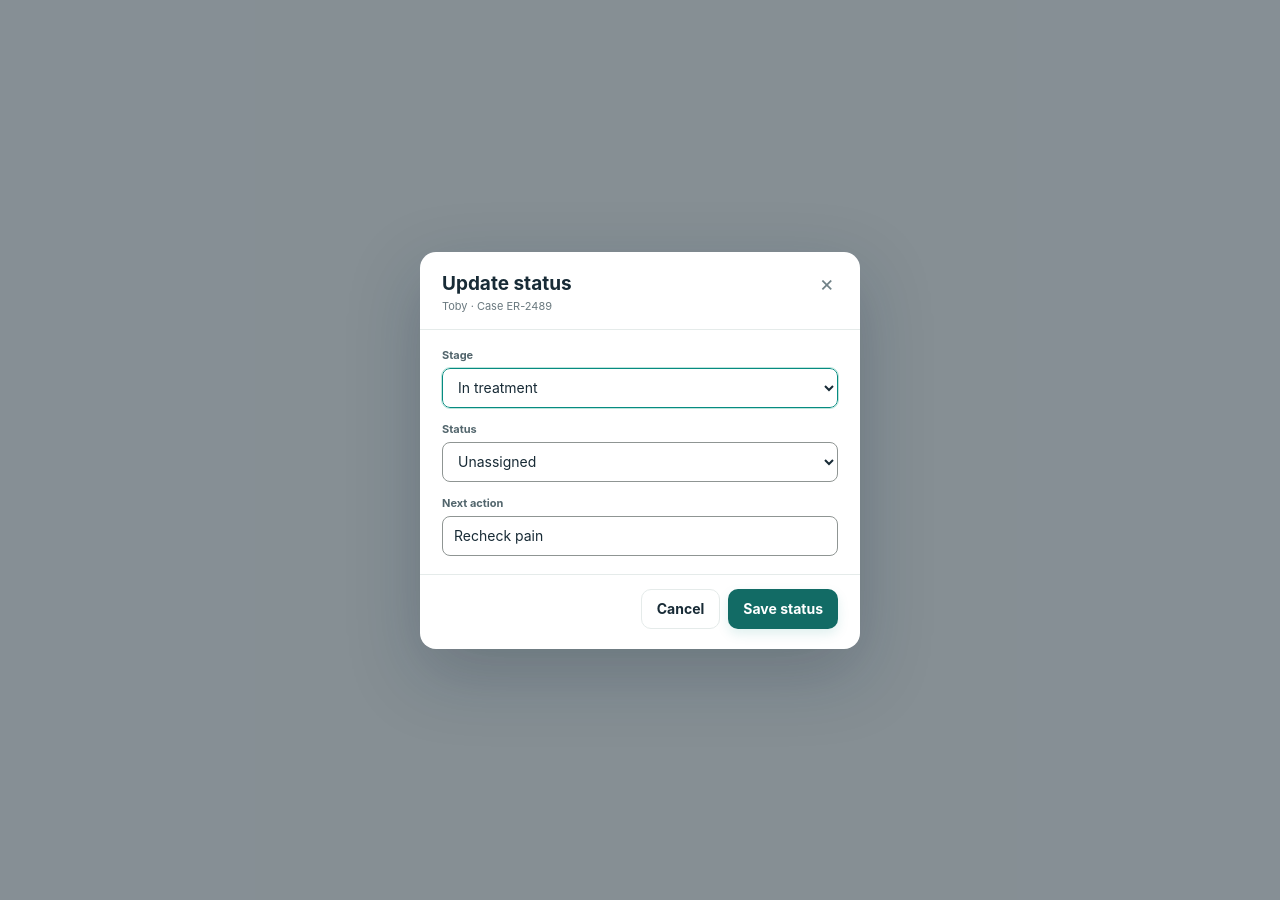
Scenario: UpdateStatusDialog › shows the server's refusal reason and keeps what was typed
Select "Triage" in the dropdown labelled "Stage" at (640, 388), box [442,368,838,408]
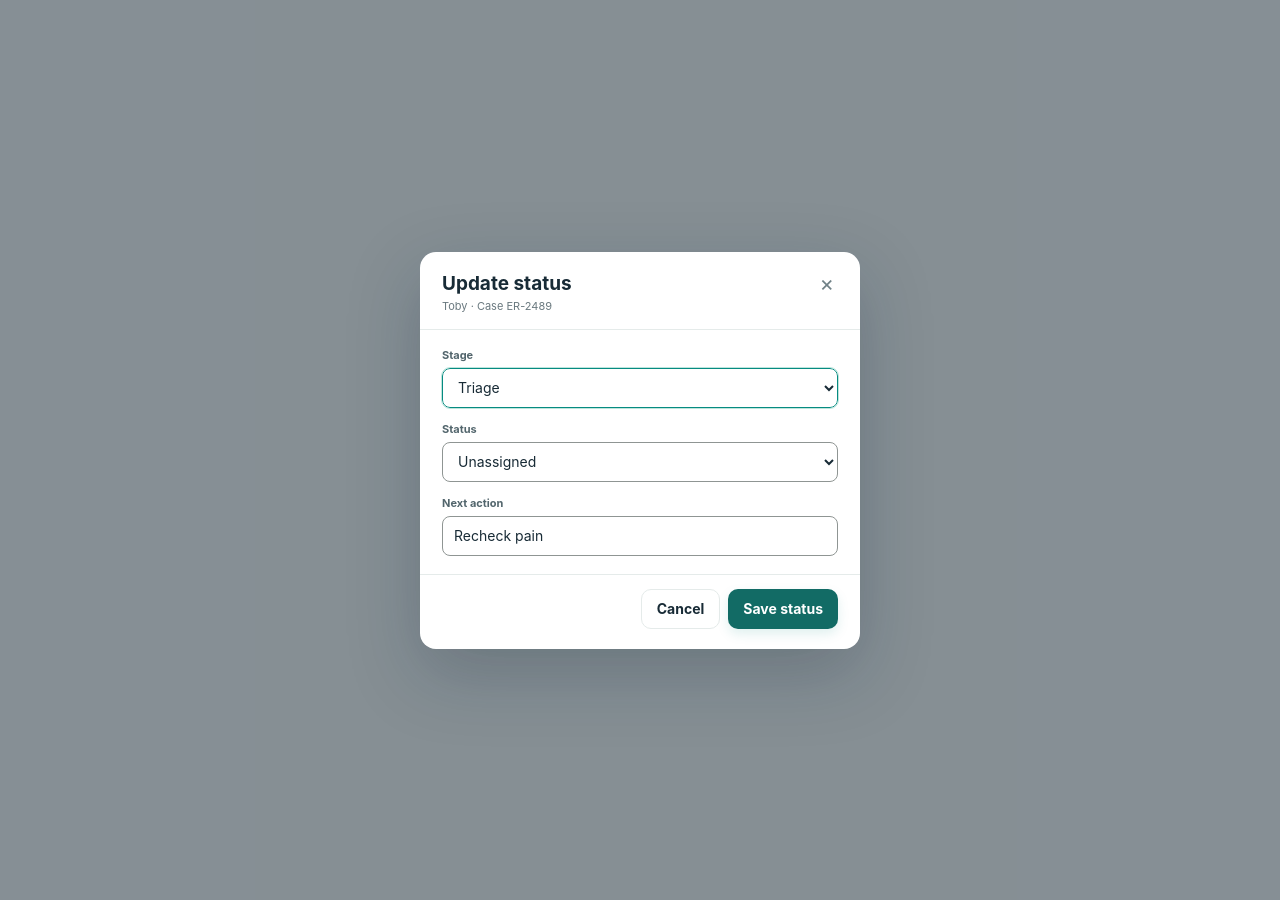
Replace the text in the field labelled "Next action" with "Keep this note" at (640, 536), box [442,516,838,556]
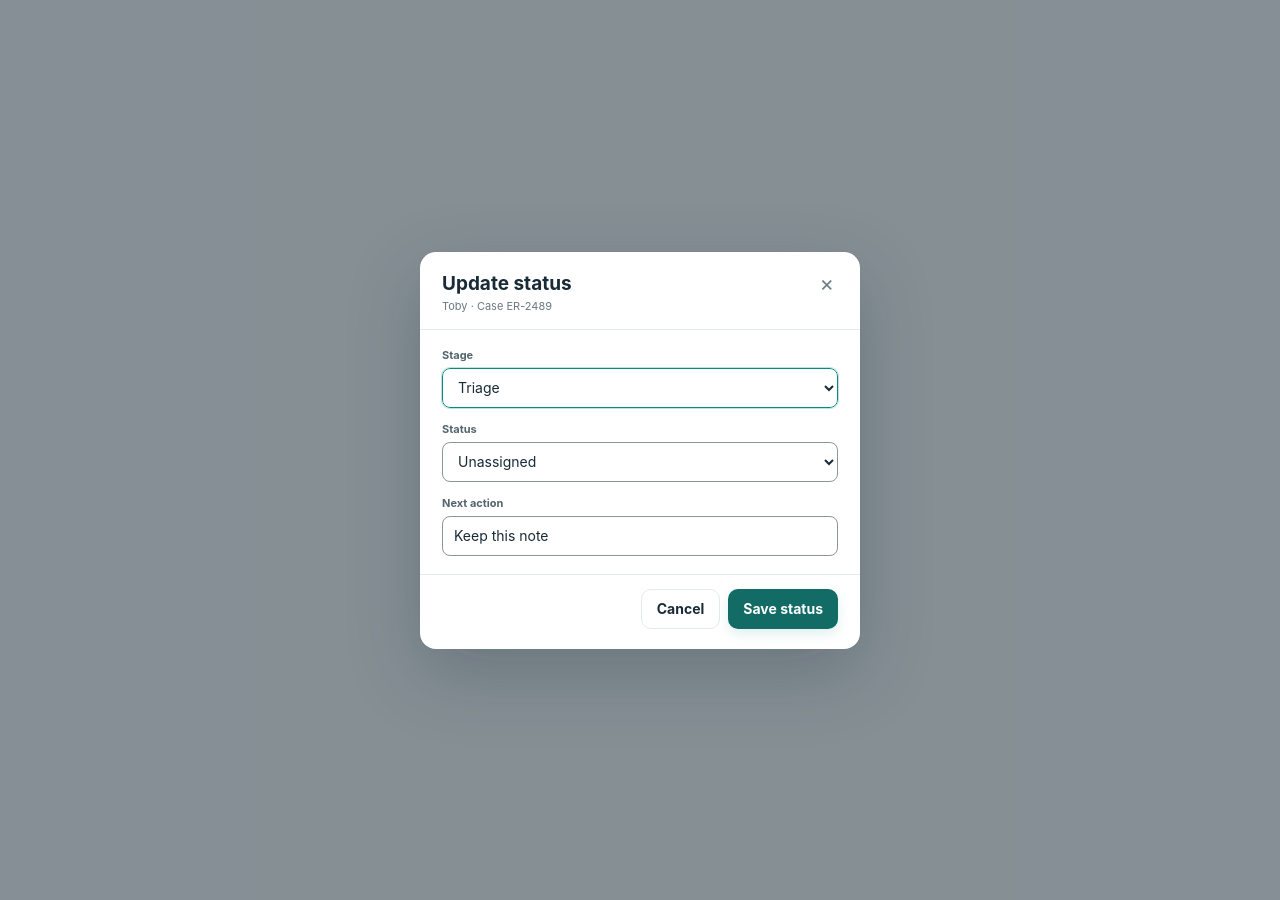
Click the button "Save status" at (783, 608), box [728,588,838,628]
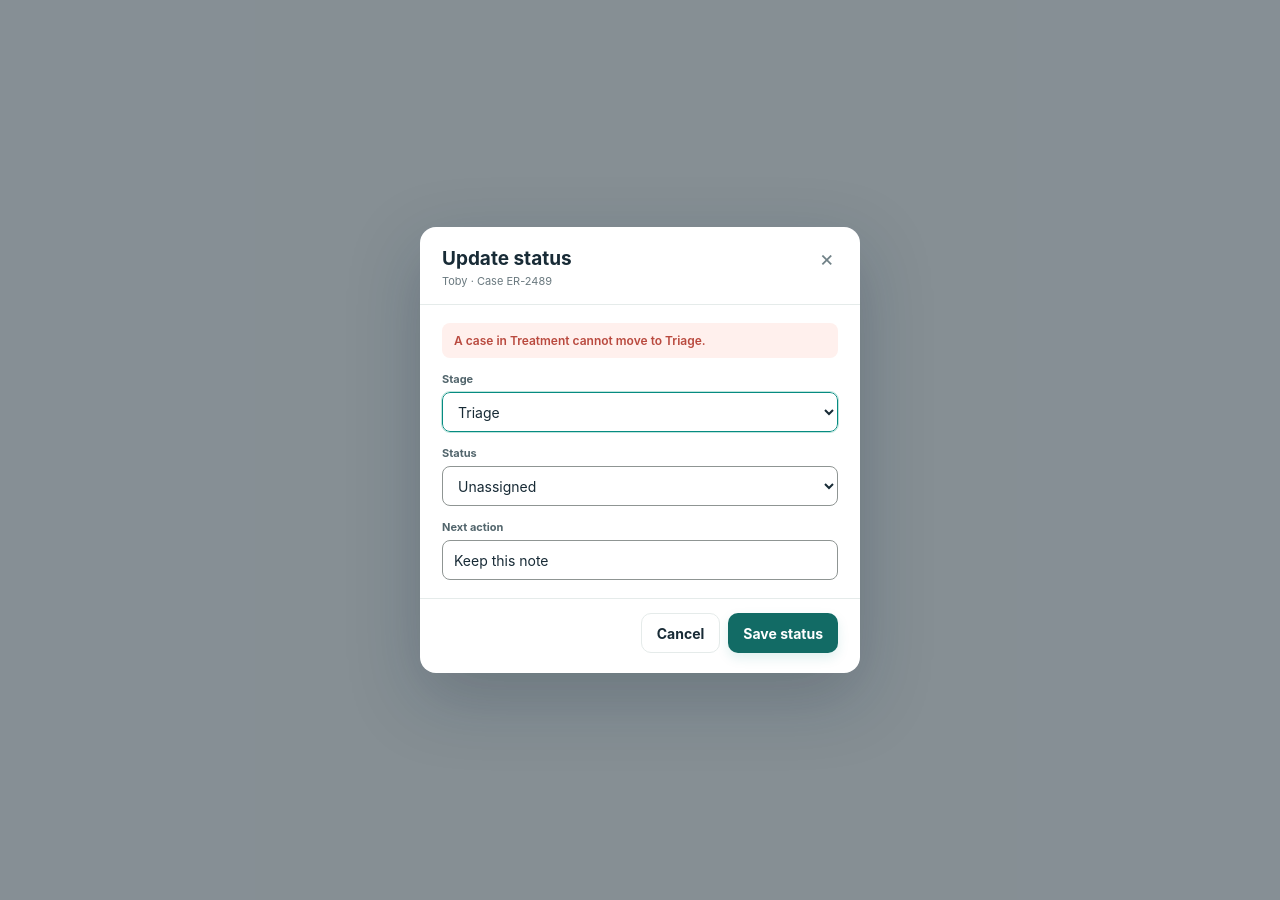
Check: the dialog "Update status" is shown, box [420,227,860,673]
Check: the message reads "A case in Treatment cannot move to Triage.", box [454,333,706,348]
